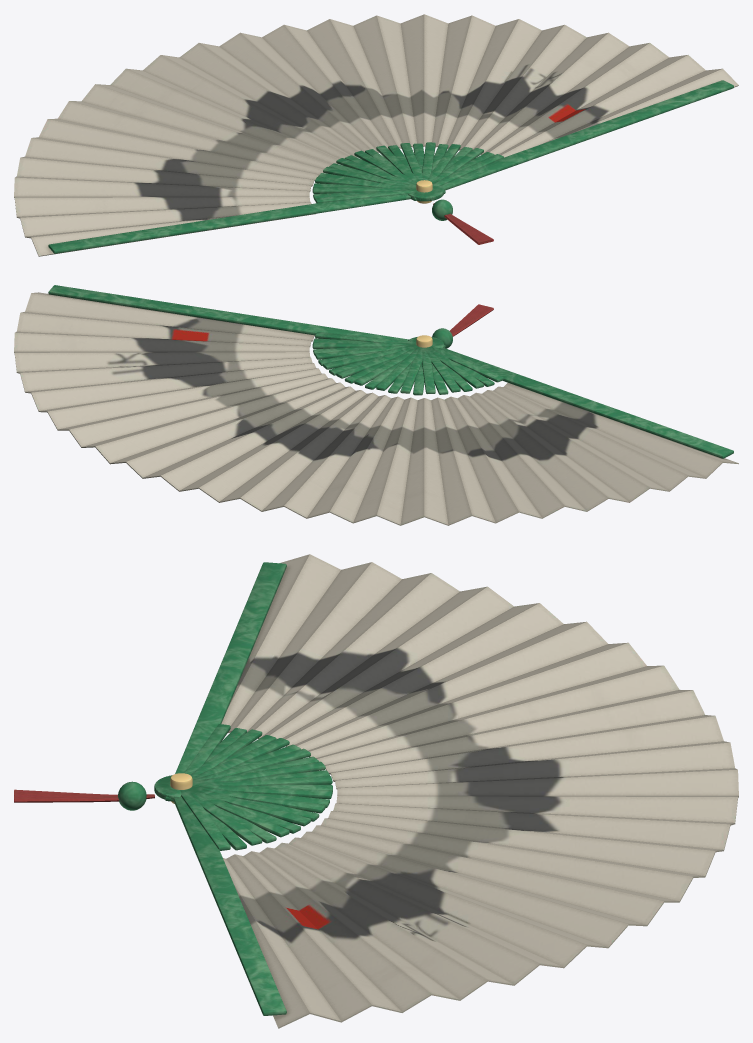
File: folding_fan.glb
3 renders of one model, top to bottom at view 1: azimuth 30°, elevation 25°; view 2: azimuth 150°, elevation 25°; view 3: azimuth 270°, elevation 25°, orthographic. The views are drawn at different scales.
Parts seen in each view (by area): view 1: folding_fan; view 2: folding_fan; view 3: folding_fan.
Part boxes in pixels (box(x1,y1,x2,y2)): folding_fan: box(14, 14, 738, 256); folding_fan: box(14, 285, 738, 525); folding_fan: box(14, 554, 738, 1028).
Size of the model in its own units: 0.4924 by 0.016 by 0.3251.
Materials: 1 (1 with a texture image).
